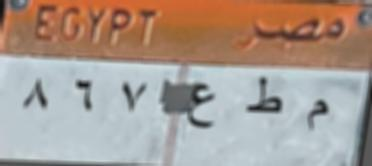6: (68, 76, 105, 112)
7: (119, 78, 151, 112)
8: (21, 75, 52, 110)
Taa: (244, 73, 286, 122)
ain: (185, 78, 220, 136)
meem: (298, 90, 335, 138)
